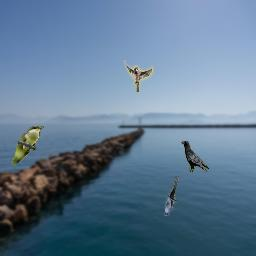Crow: (181, 141, 209, 173)
Cuckoo: (11, 126, 44, 166), (164, 176, 179, 216)
Sparrow: (124, 60, 154, 92)
